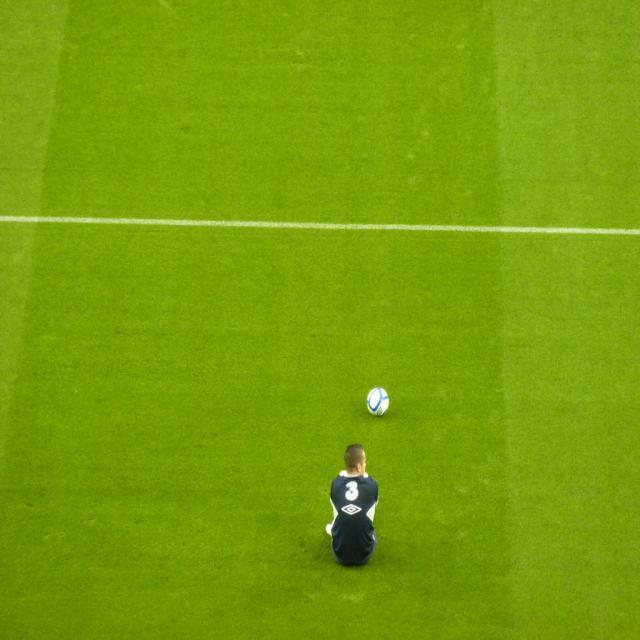football: (359, 382, 397, 419)
